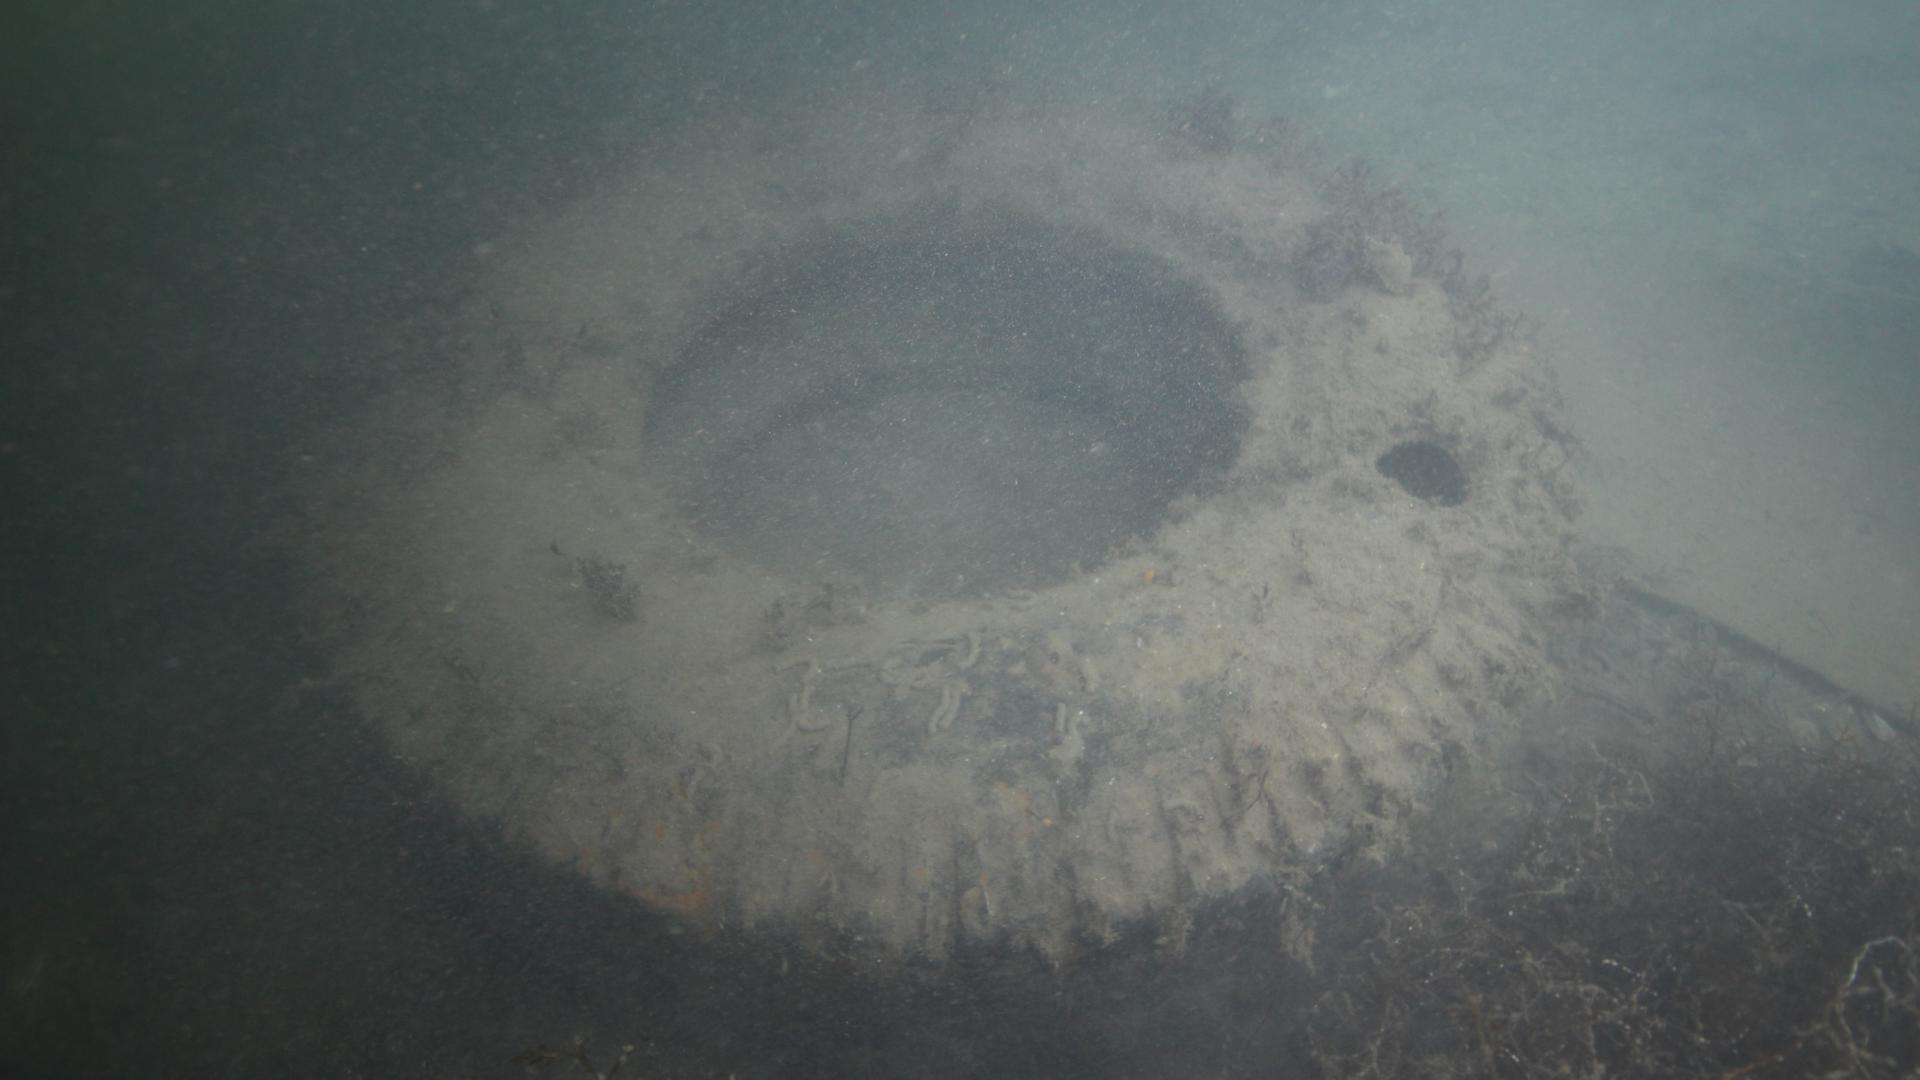tire: (278, 104, 1586, 1000)
